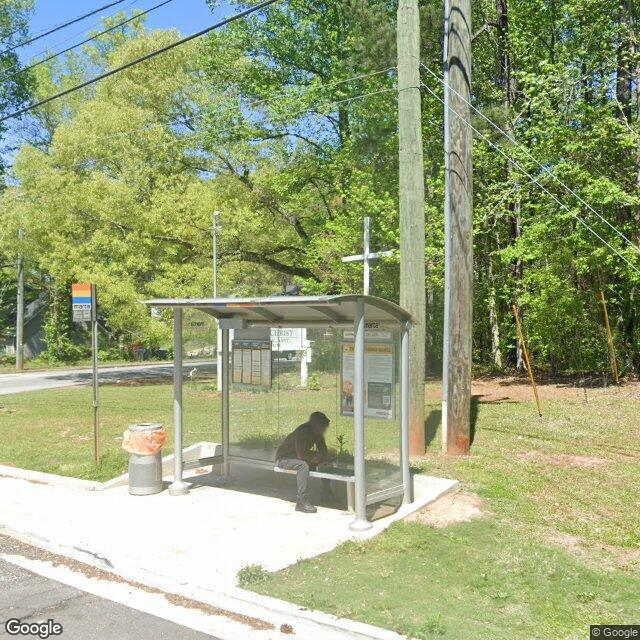seating: (273, 465, 380, 516)
shelter: (134, 294, 424, 534)
trash_can: (128, 422, 164, 497)
